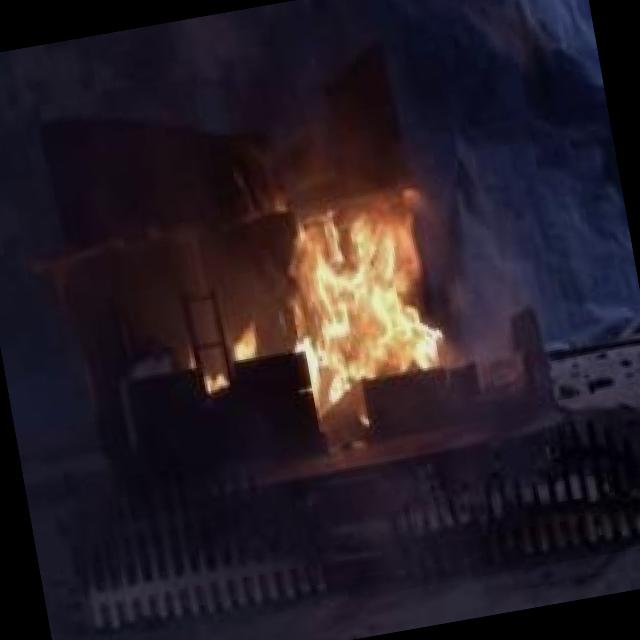fire: (232, 164, 442, 411)
